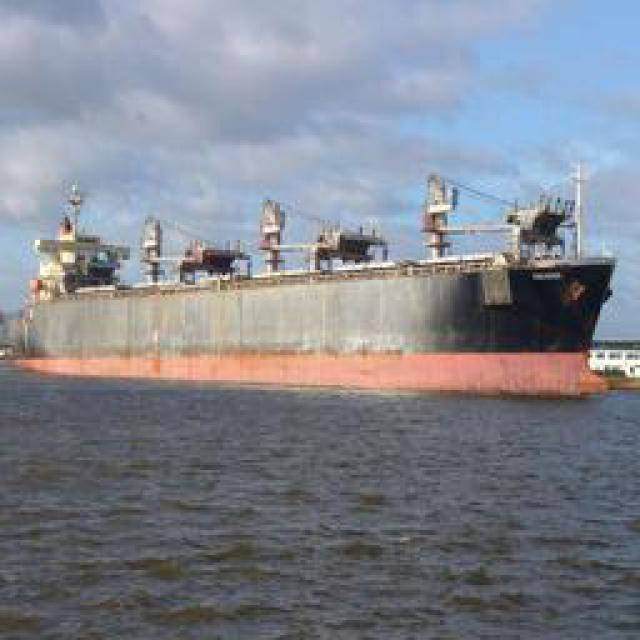Ship: (7, 205, 625, 408)
